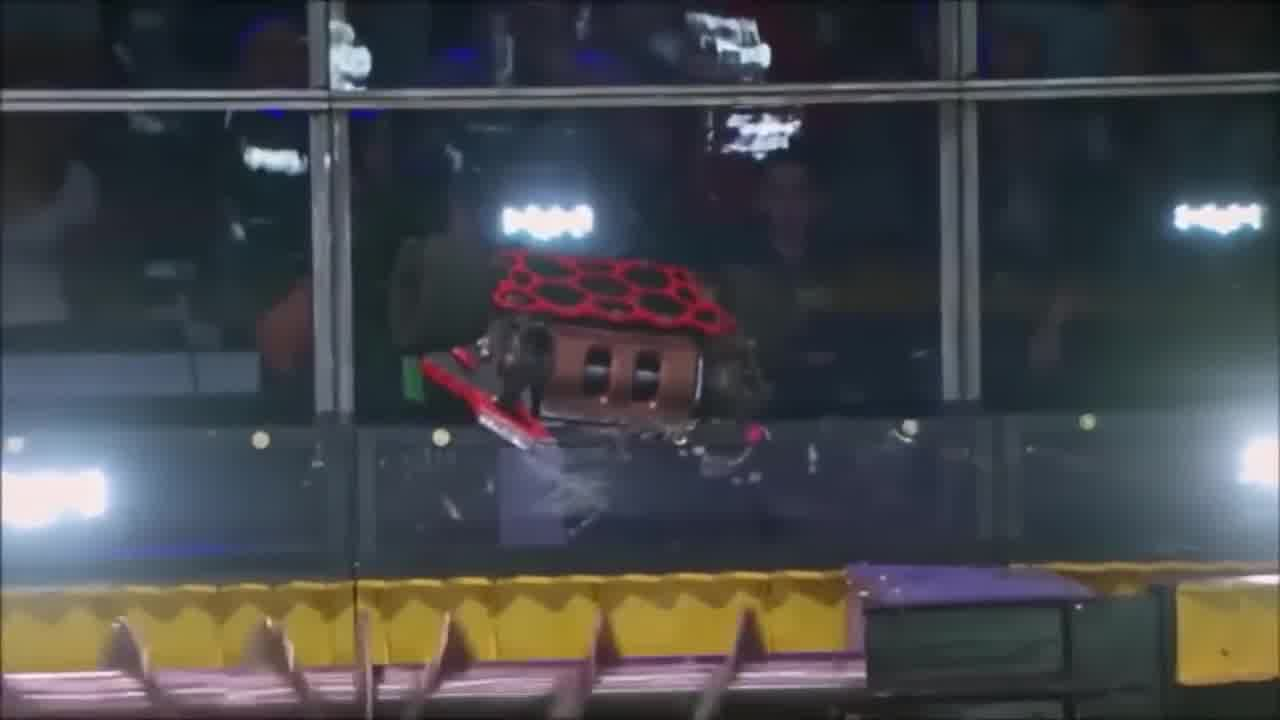combatbot: (486, 246, 743, 449)
